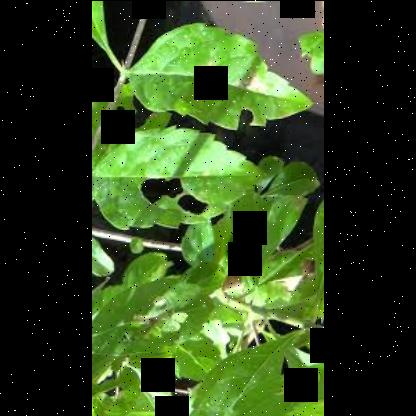agujero: (140, 172, 188, 200), (175, 192, 211, 210), (299, 253, 319, 279), (238, 107, 256, 127), (119, 104, 128, 114)
